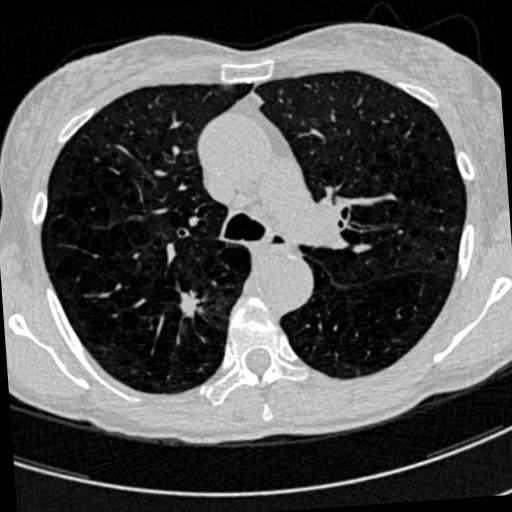nodule: (174, 288, 206, 320)
